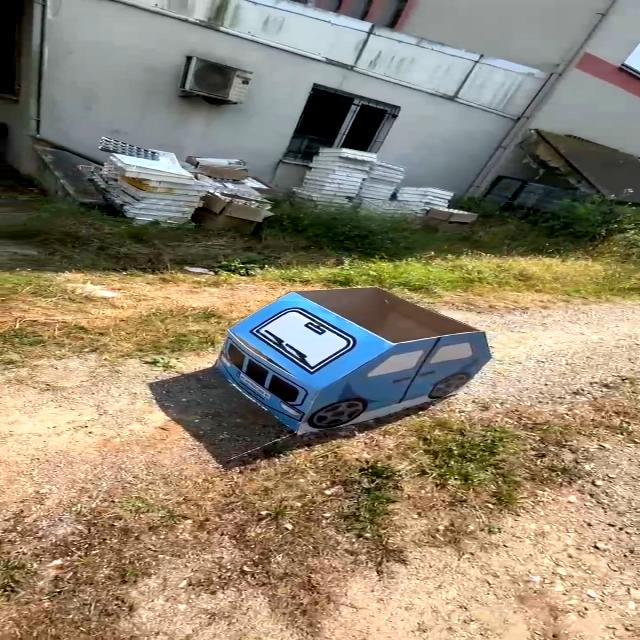blue_car: (192, 279, 518, 451)
